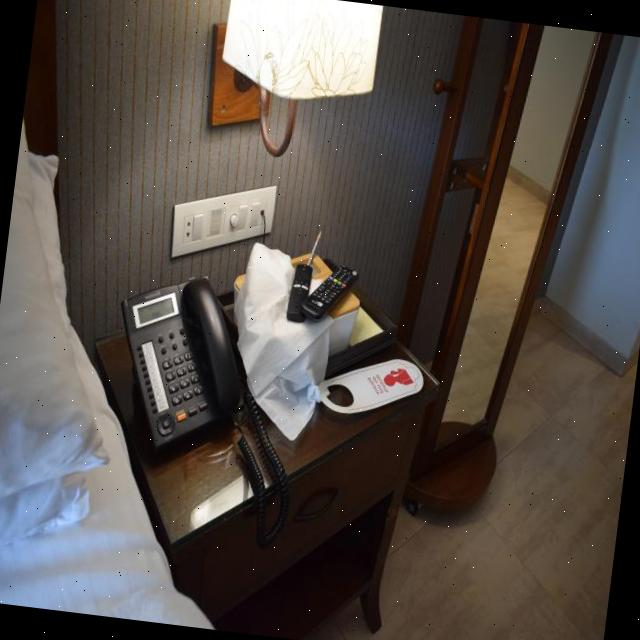lamp: (198, 0, 385, 171)
mess: (233, 268, 330, 424)
messy_table: (90, 253, 450, 638)
